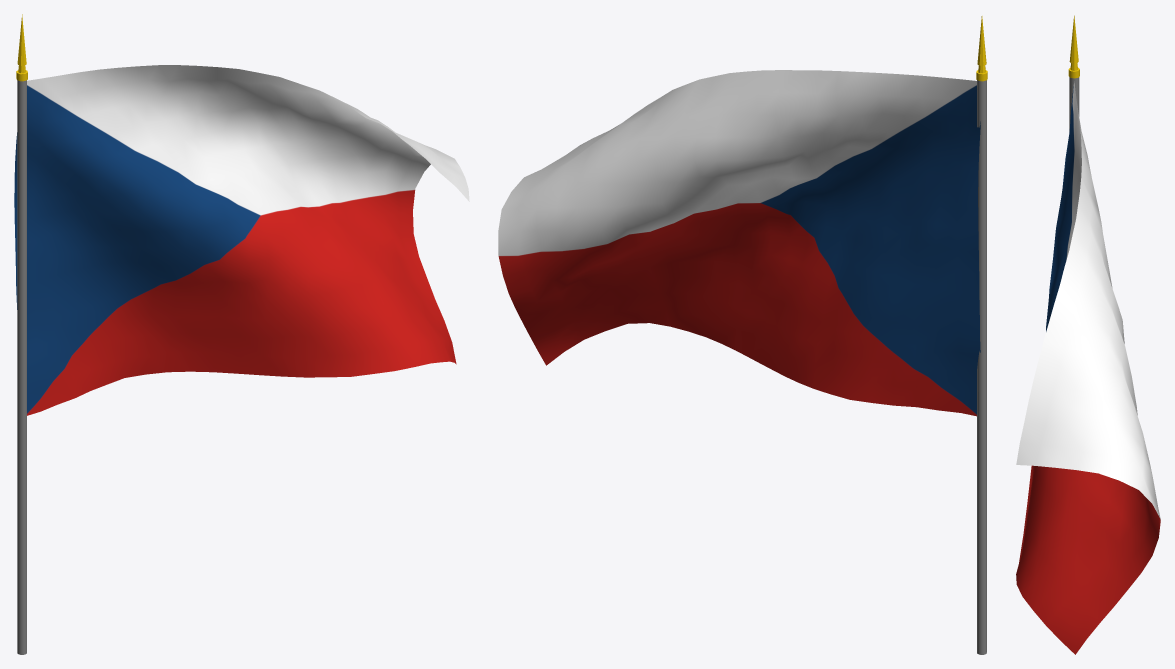
The model's file is czeflag.glb.
3 renders of one model, left to right at view 1: azimuth 30°, elevation 25°; view 2: azimuth 150°, elevation 25°; view 3: azimuth 270°, elevation 25°, orthographic. The views are drawn at different scales.
Parts seen in each view (by area): view 1: Flag ShapeKeys_2_4_7, pCylinder358; view 2: Flag ShapeKeys_2_4_7, pCylinder358; view 3: Flag ShapeKeys_2_4_7, pCylinder358.
Part boxes in pixels (box(x1,y1,x2,y2)): Flag ShapeKeys_2_4_7: box(14, 65, 469, 415); pCylinder358: box(16, 14, 27, 654); Flag ShapeKeys_2_4_7: box(498, 70, 980, 416); pCylinder358: box(976, 16, 987, 654); Flag ShapeKeys_2_4_7: box(1016, 81, 1160, 654); pCylinder358: box(1068, 15, 1079, 131).
Bounding box in the file's own units: 2.82 × 3.8 × 0.8164.
3 materials, 1 textured.
